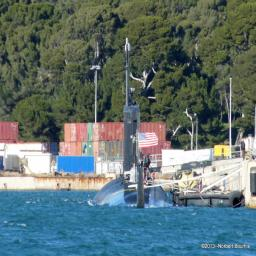submarine: (94, 38, 177, 212)
